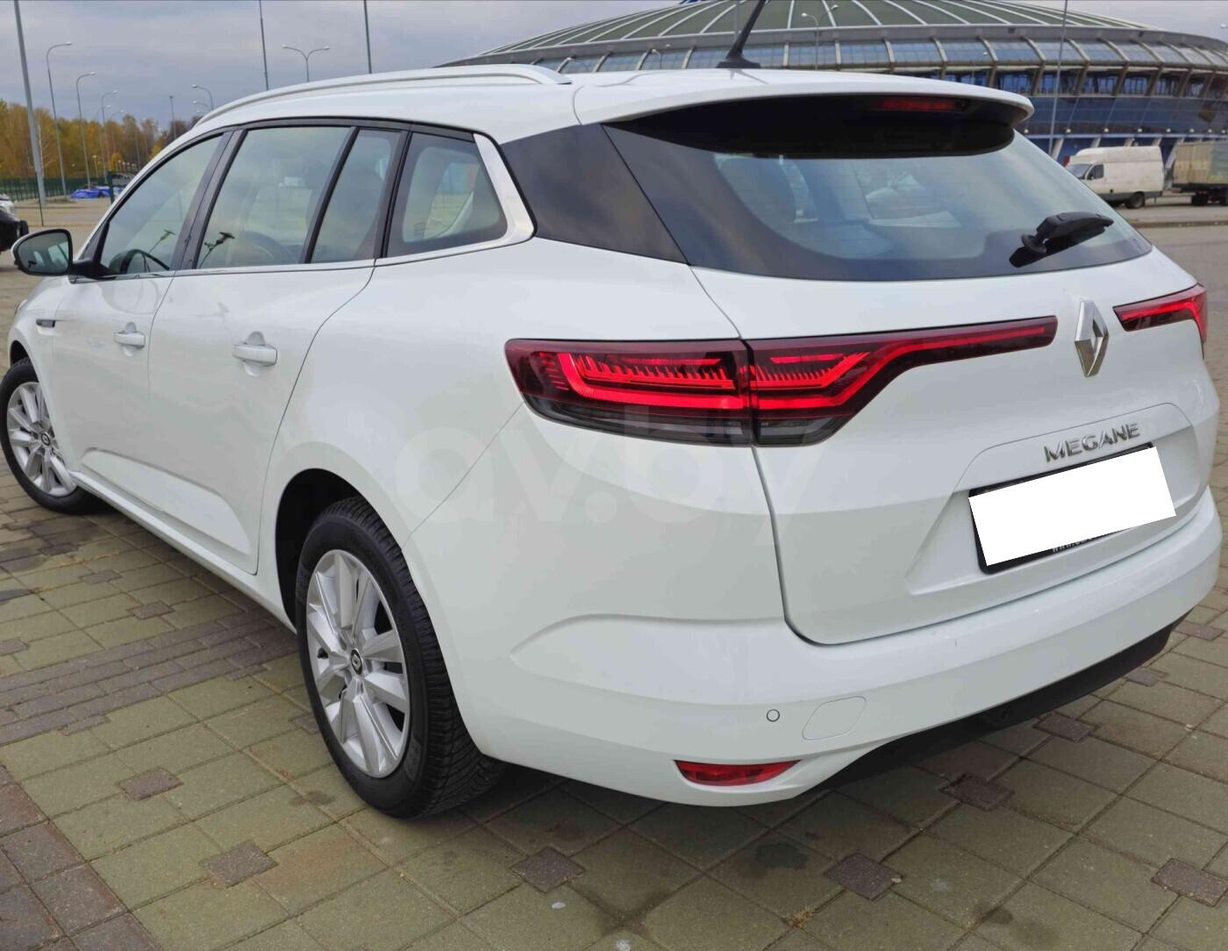Megane_2020: (0, 59, 1228, 836)
